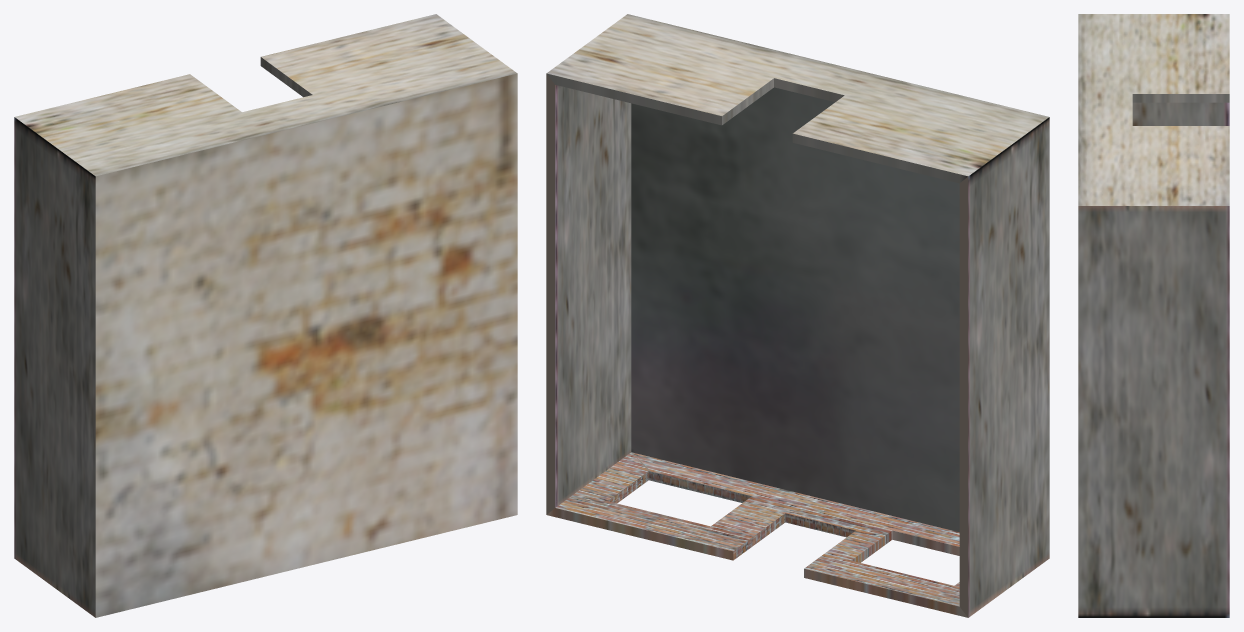
The model's file is 6x6NS2_SWindow_wtf.obj.
The picture shows the model from 3 angles, left to right: view 1: azimuth 30°, elevation 25°; view 2: azimuth 150°, elevation 25°; view 3: azimuth 270°, elevation 25°; orthographic projection. The views are drawn at different scales.
Visible parts, largest first — view 1: group2; view 2: group2; view 3: group2.
Boxes of the visible parts, bbox=[...] form: group2: bbox=[14, 14, 517, 617]; group2: bbox=[546, 14, 1049, 617]; group2: bbox=[1078, 14, 1229, 617].
Bounding box in the file's own units: 660 × 660 × 220.
